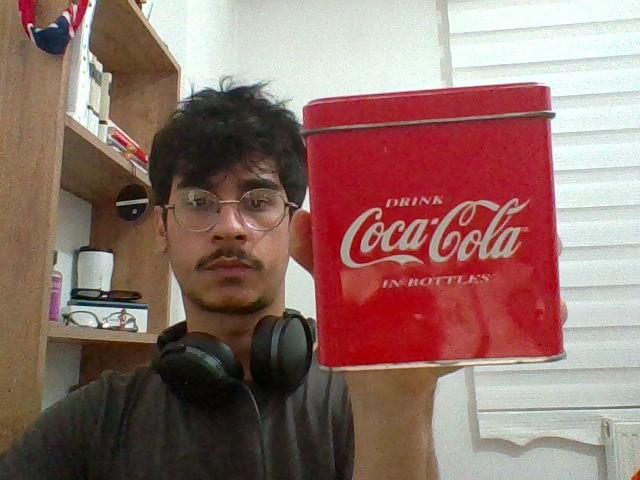CocaColaBox: (300, 101, 561, 362)
